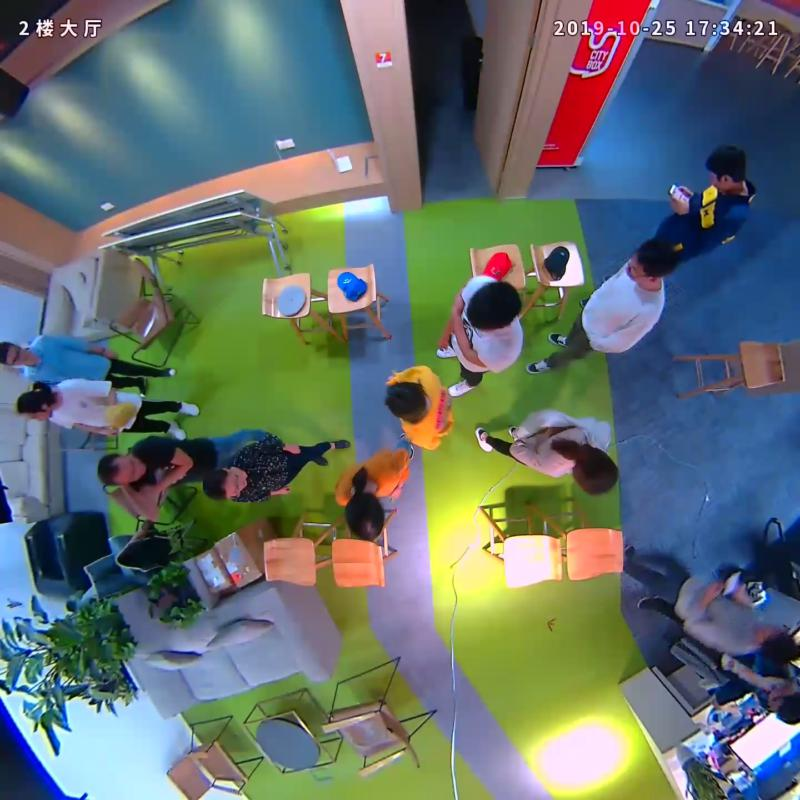head: (464, 282, 521, 332), (625, 238, 680, 284), (573, 448, 618, 496), (345, 490, 384, 540), (705, 144, 746, 191), (752, 624, 794, 663), (96, 452, 148, 483), (201, 465, 248, 499), (386, 381, 426, 419), (767, 686, 800, 726), (17, 391, 51, 421), (1, 340, 33, 366)
